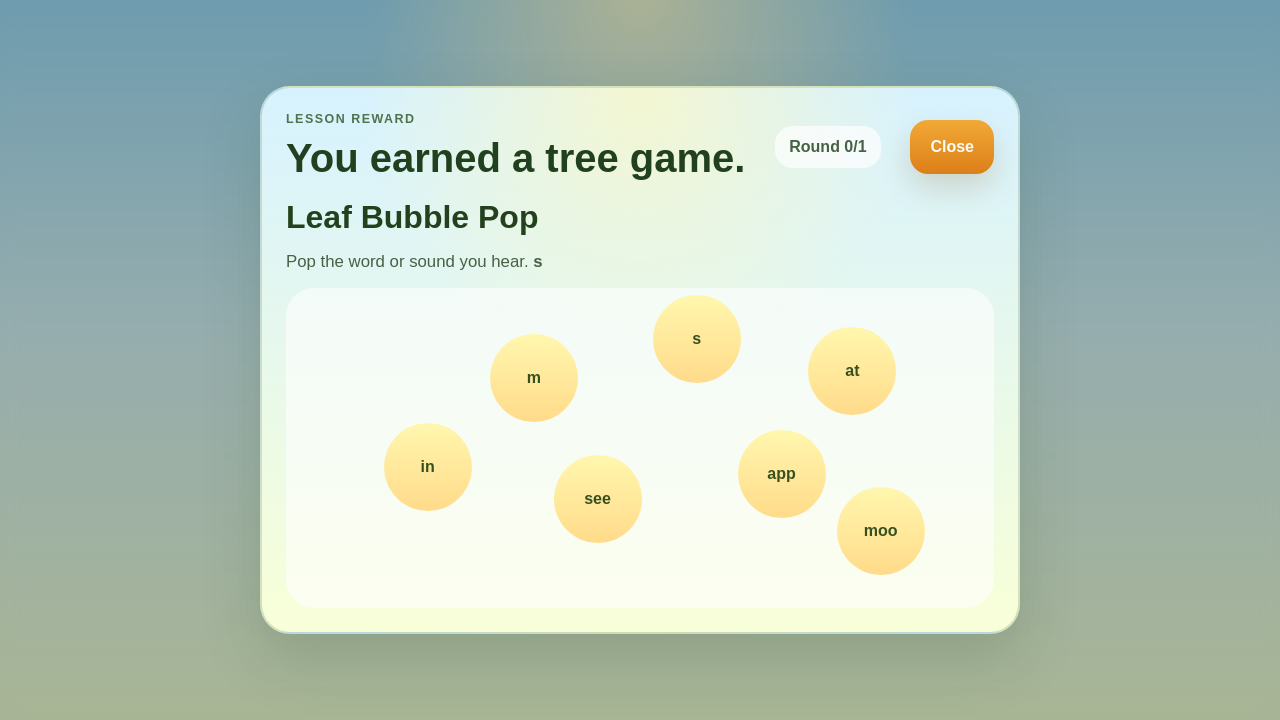
Test case: RewardGameModal › completes Bubble Pop without cross-component update warnings
Click the button "s": coordinates (697, 339) x1=653 y1=295 x2=741 y2=383
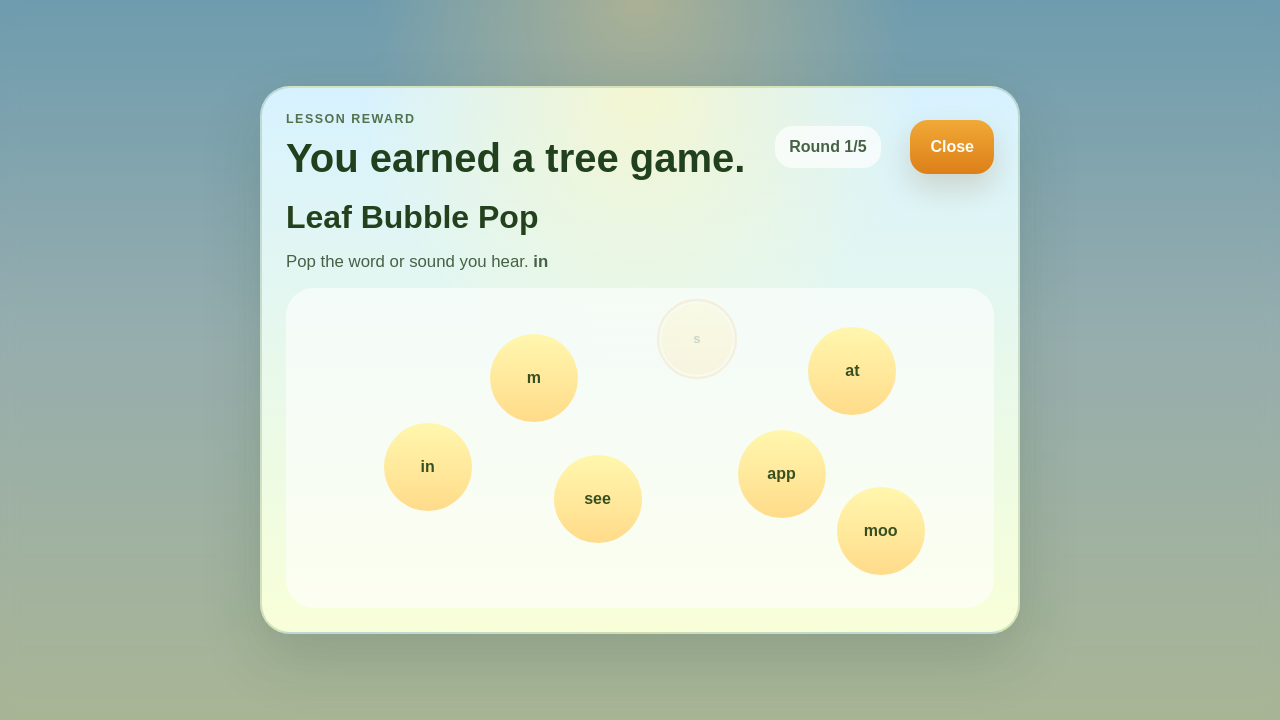
Click the button "in": coordinates (428, 467) x1=384 y1=423 x2=472 y2=511
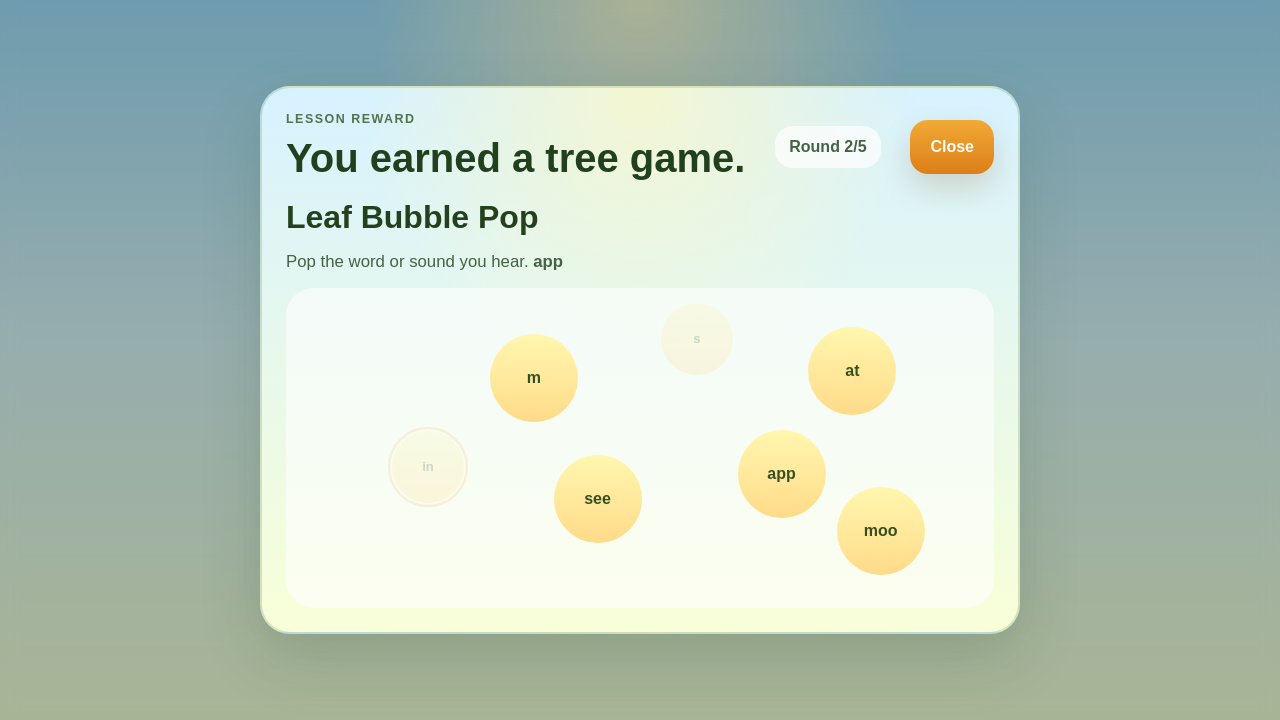
Click the button "app": coordinates (782, 474) x1=738 y1=430 x2=826 y2=518
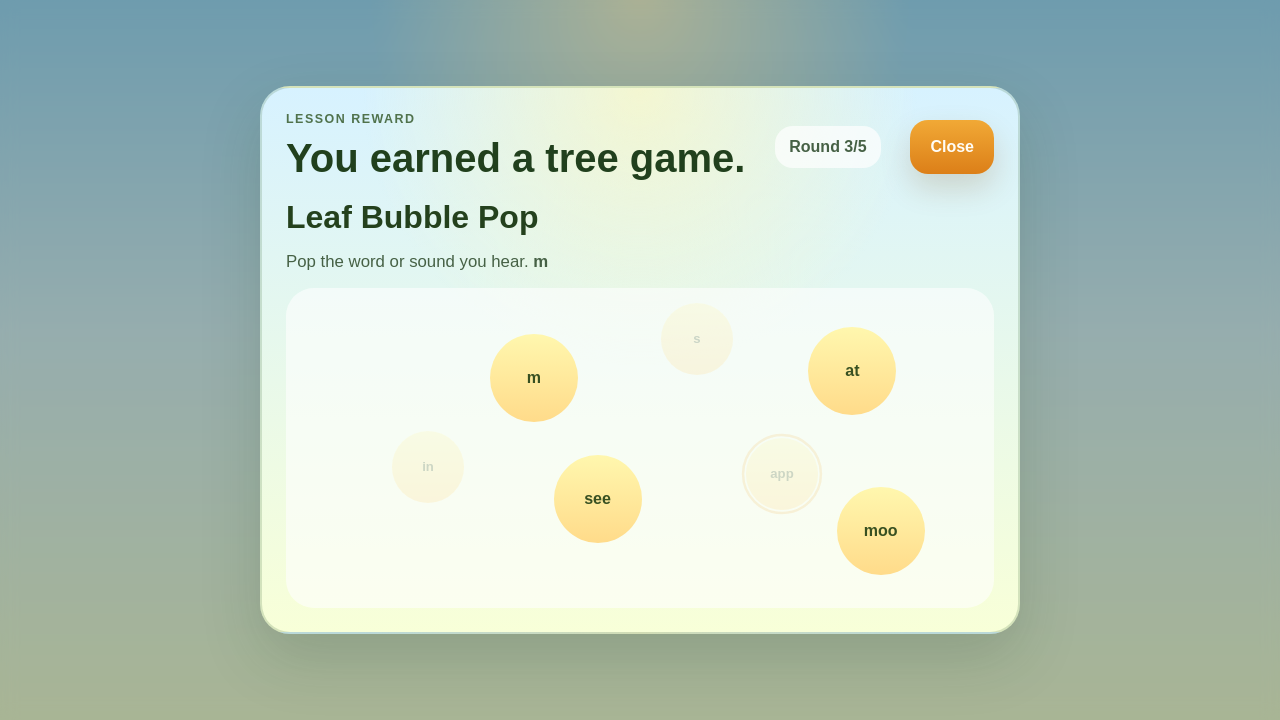
Click the button "m": coordinates (534, 378) x1=490 y1=334 x2=578 y2=422
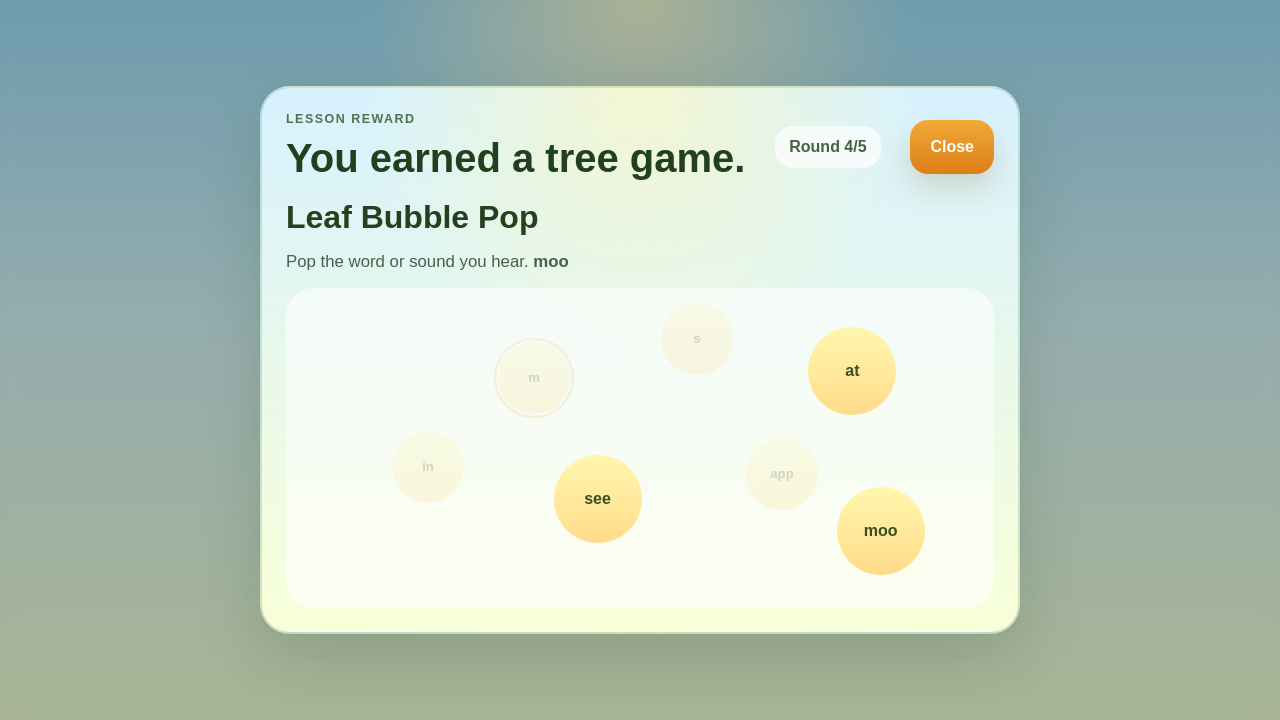
Click the button "moo": coordinates (881, 531) x1=837 y1=487 x2=925 y2=575
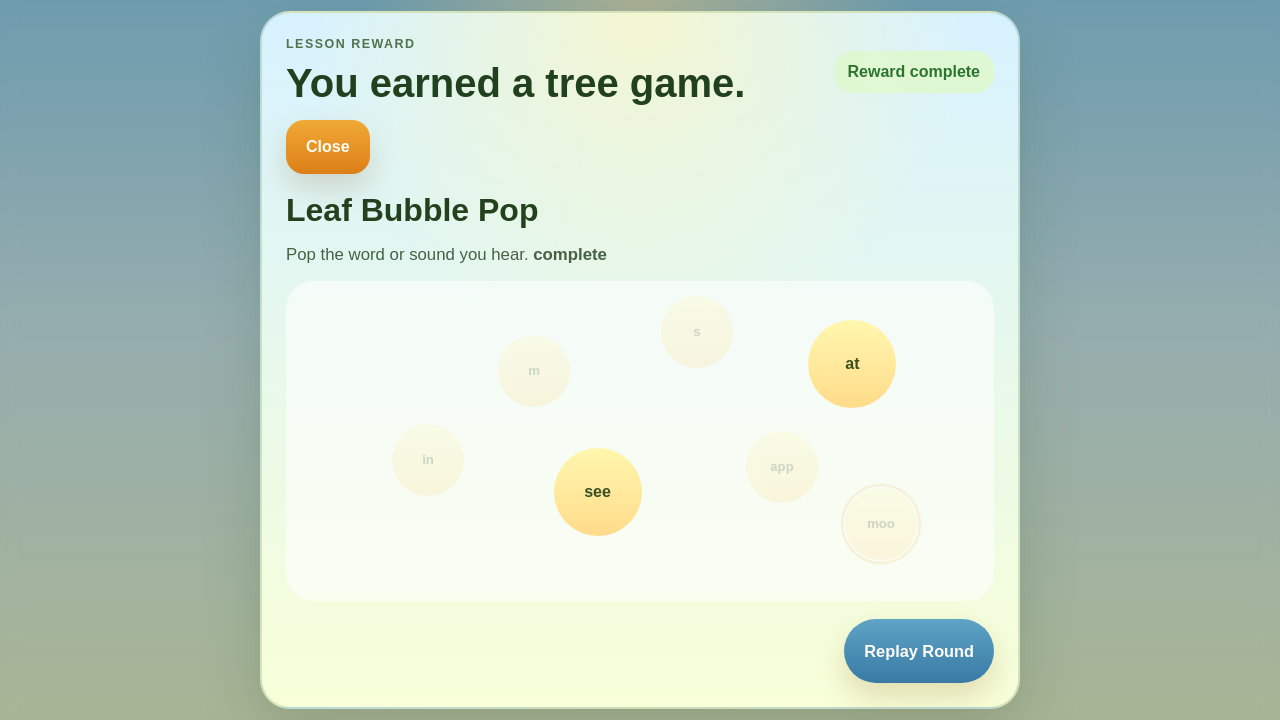
Result: the text "Reward complete" is shown at x1=834 y1=50 x2=994 y2=92
